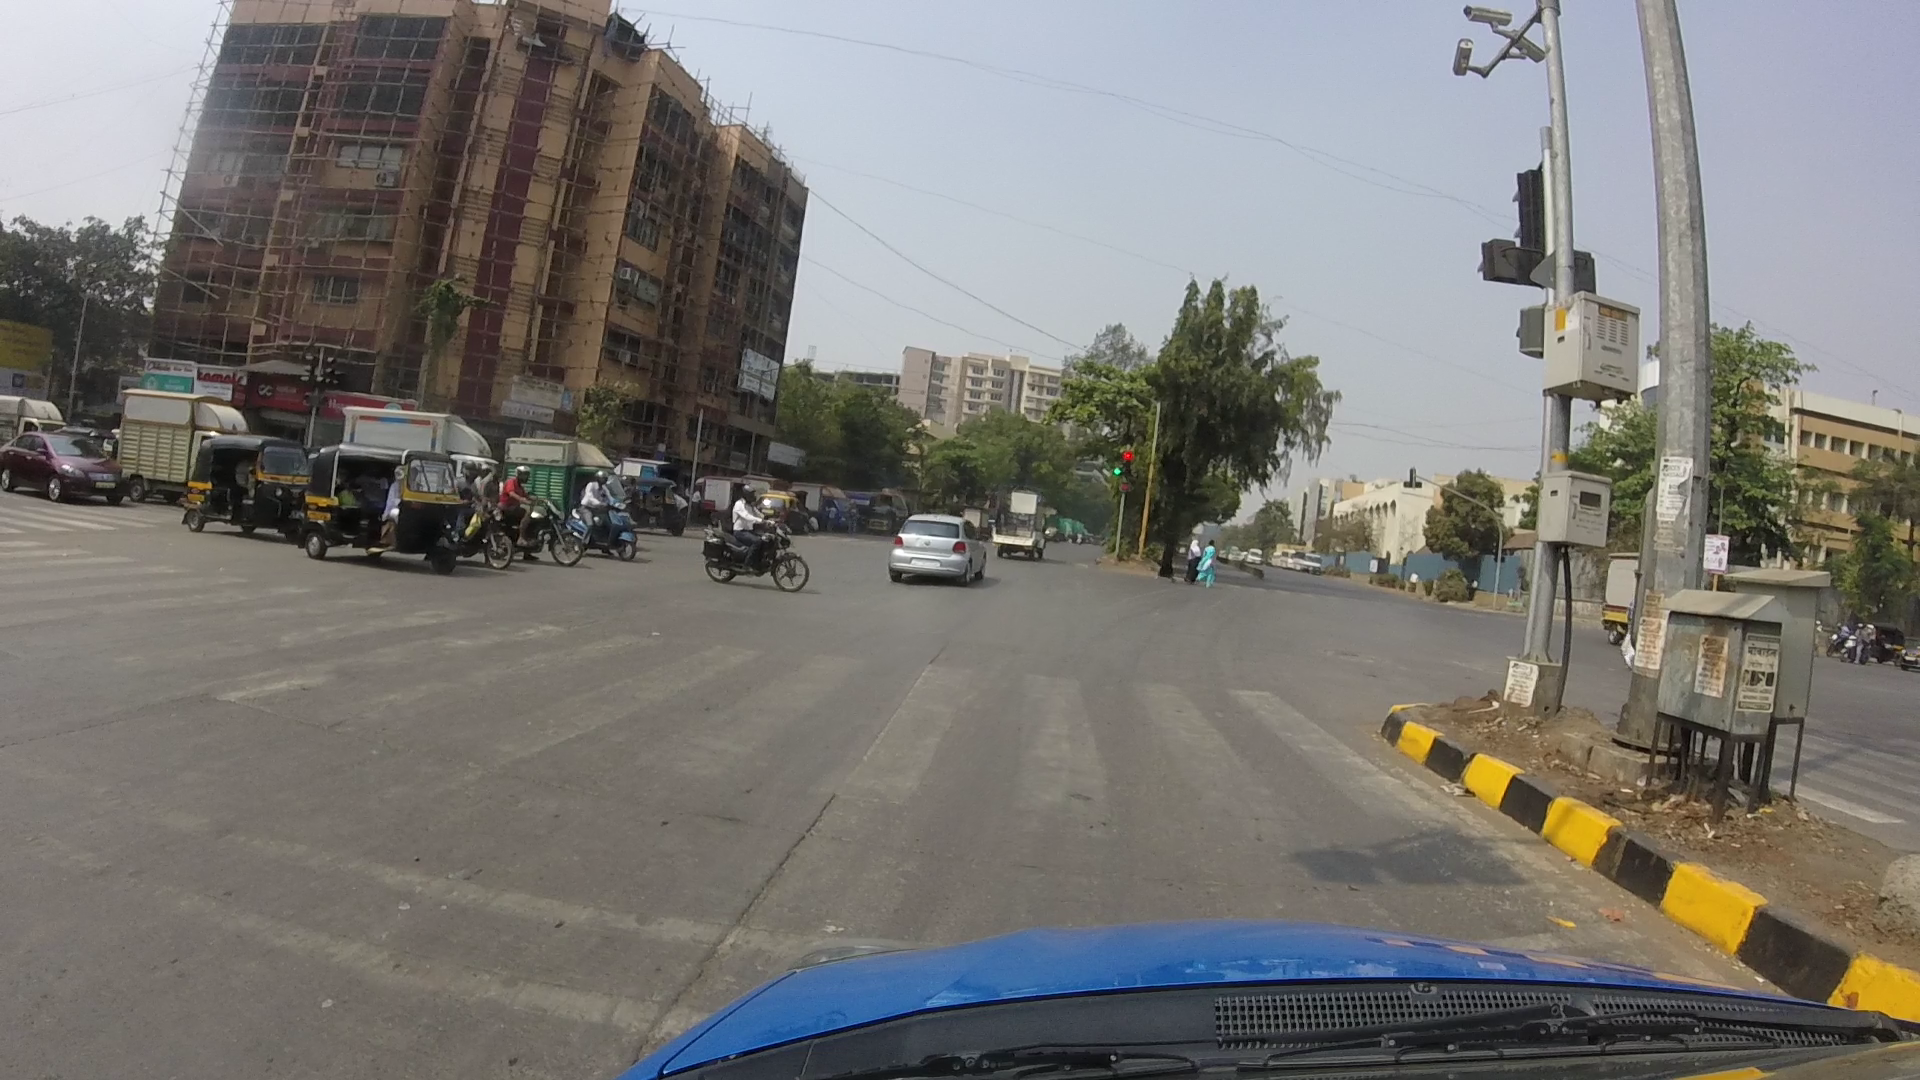bike/scooter: (694, 492, 808, 592)
car: (11, 427, 119, 506), (893, 516, 984, 583)
rickshaw: (311, 436, 465, 560), (171, 430, 313, 539)
truck: (993, 504, 1043, 554)
